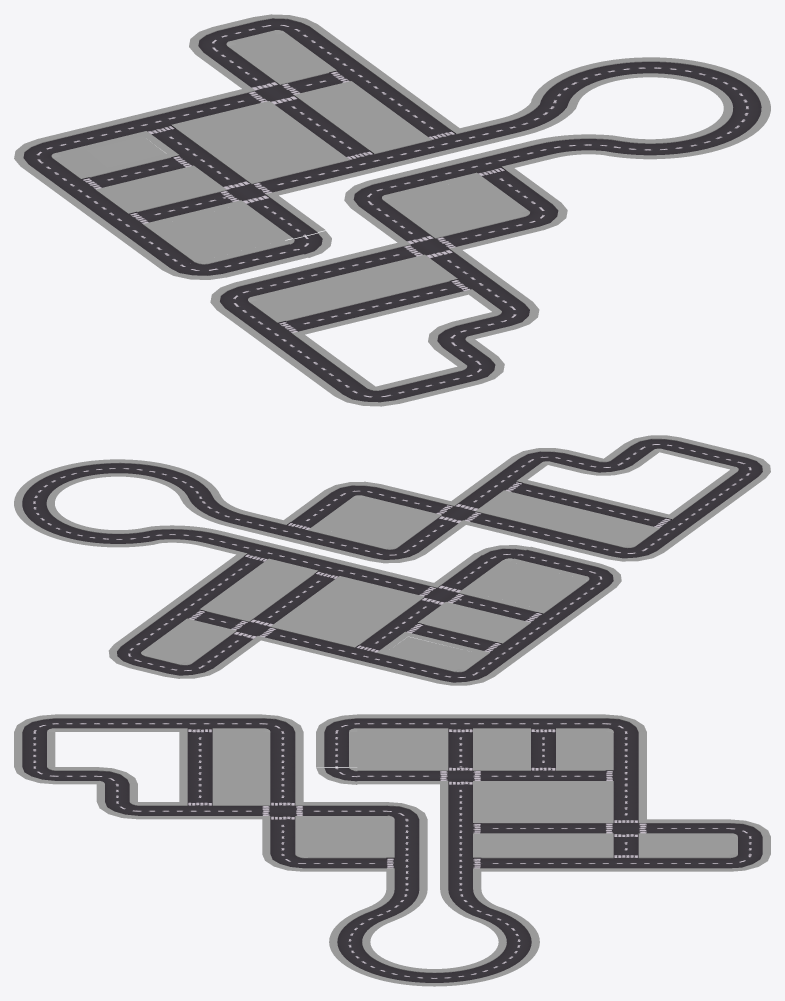
Rendered from world4.fbx.
The picture shows the model from 3 angles, top to bottom: view 1: azimuth 30°, elevation 25°; view 2: azimuth 150°, elevation 25°; view 3: azimuth 270°, elevation 25°; orthographic projection. The views are drawn at different scales.
Parts seen in each view (by area): view 1: World2; view 2: World2; view 3: World2.
Boxes of the visible parts, <box> form: World2: <box>14,14,770,406</box>; World2: <box>14,435,770,685</box>; World2: <box>14,714,770,986</box>.
Bounding box in the file's own units: 31090 × 89.75 × 36600.
4 materials, 3 textured.
